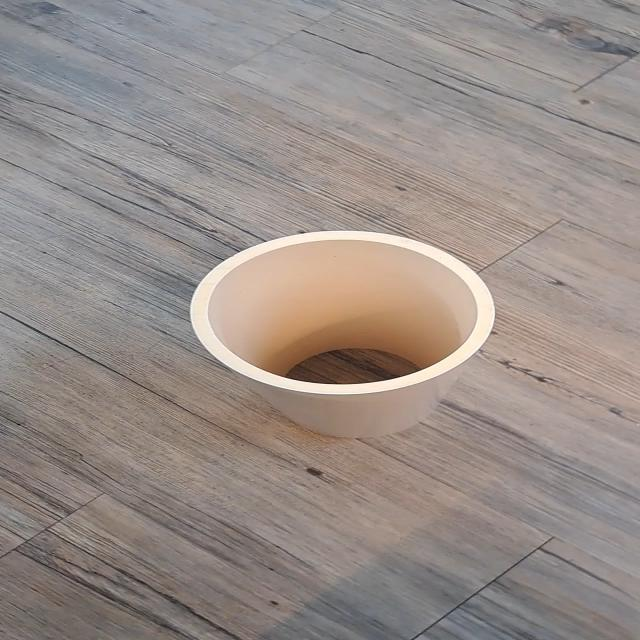CORAL: (149, 212, 523, 446)
